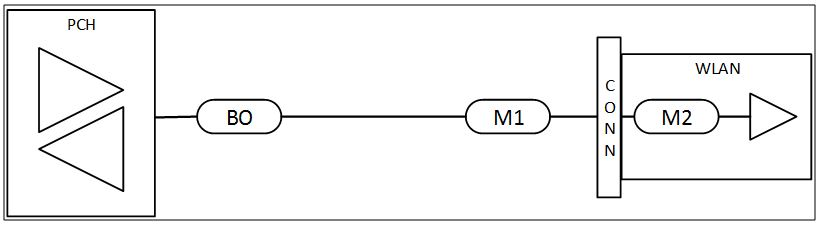oval: (466, 98, 552, 135), (197, 99, 282, 136), (634, 100, 723, 133)
rectangle: (4, 8, 158, 220), (621, 50, 814, 185), (595, 36, 624, 200)
triangle: (33, 105, 126, 196), (36, 46, 127, 137), (747, 92, 801, 143)
